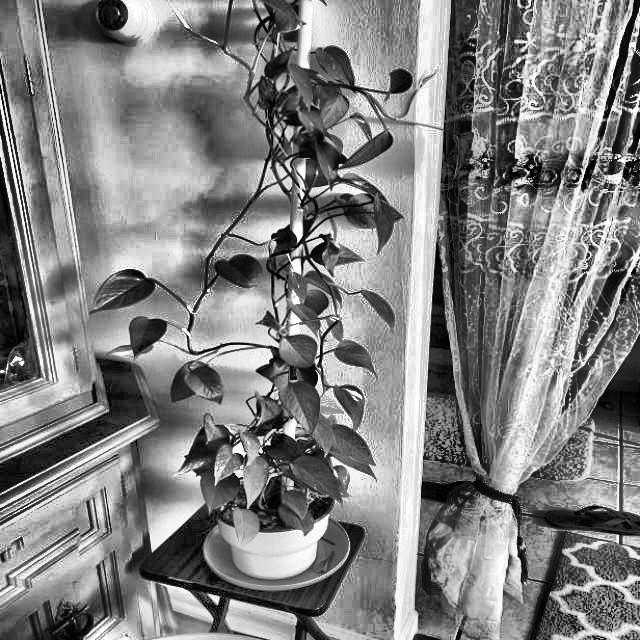plants: (106, 180, 394, 540)
